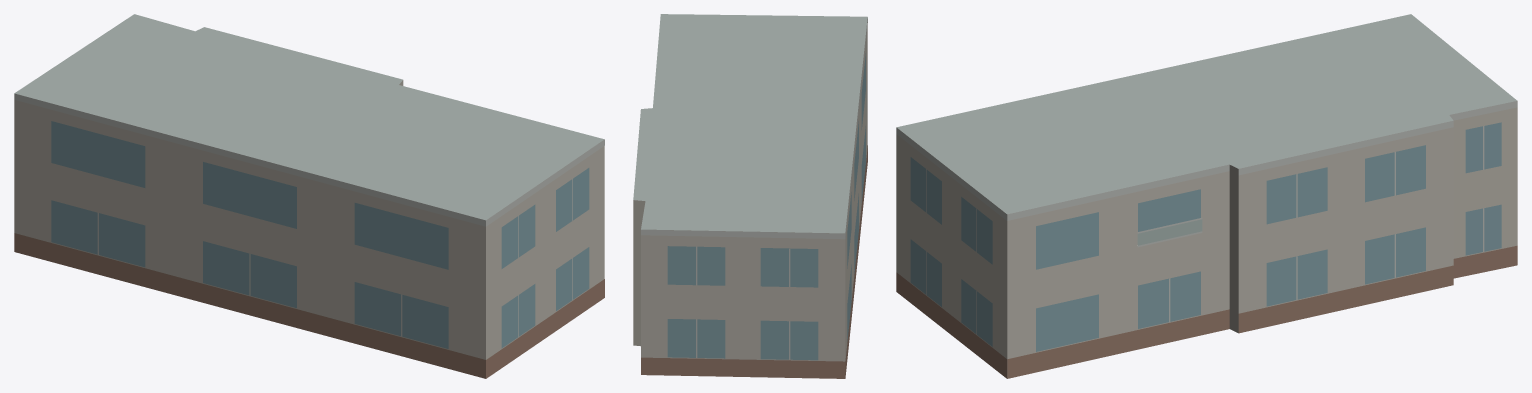
Rendered from survey-upis-32650512.glb.
3 renders of one model, left to right at view 1: azimuth 30°, elevation 25°; view 2: azimuth 150°, elevation 25°; view 3: azimuth 270°, elevation 25°, orthographic. The views are drawn at different scales.
Parts seen in each view (by area): view 1: survey-upis-32650512.tmp; view 2: survey-upis-32650512.tmp; view 3: survey-upis-32650512.tmp.
Part boxes in pixels (x1,y1,x2,y2): survey-upis-32650512.tmp: (14, 14, 604, 378); survey-upis-32650512.tmp: (633, 14, 867, 378); survey-upis-32650512.tmp: (896, 14, 1517, 378).
Bounding box in the file's own units: 15.95 × 6.1 × 20.89.
